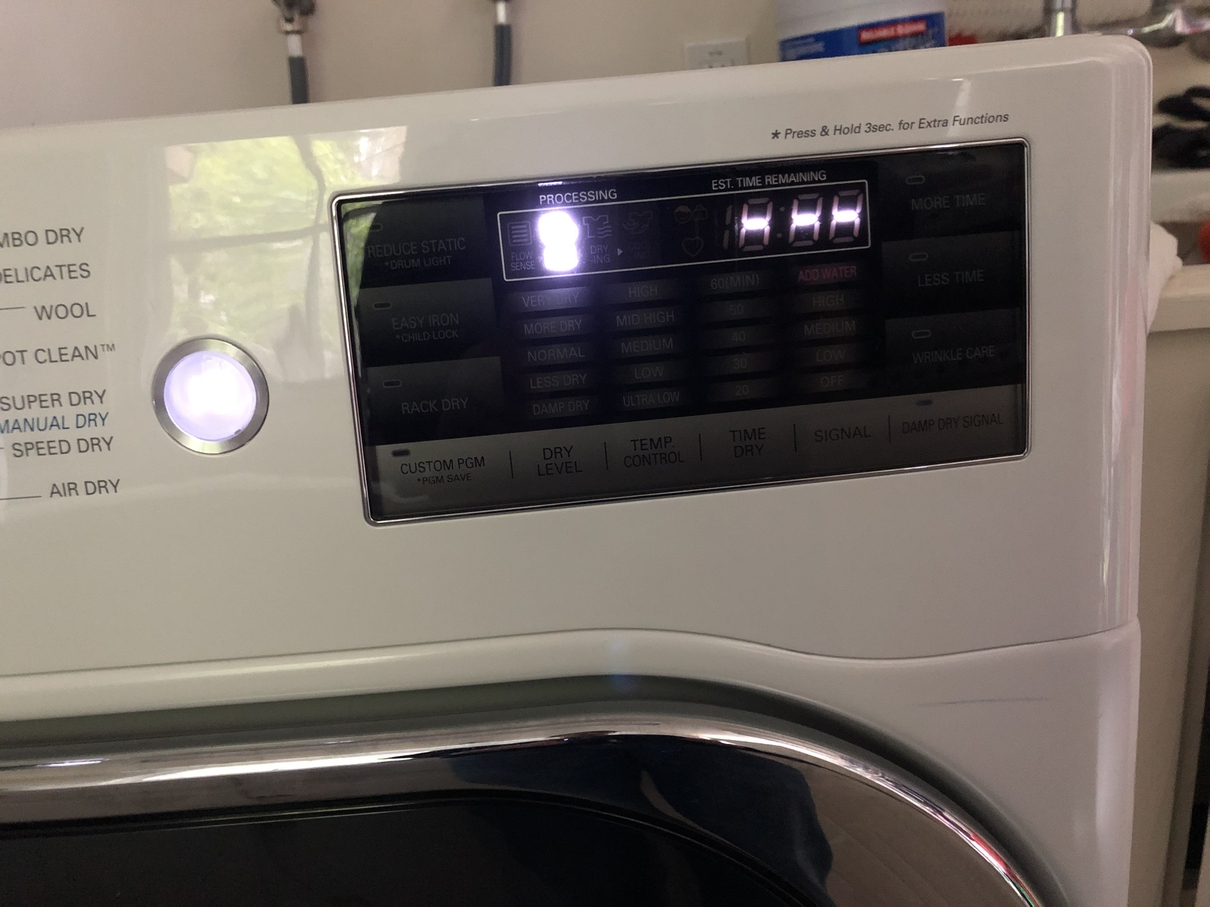status: (476, 164, 884, 284)
